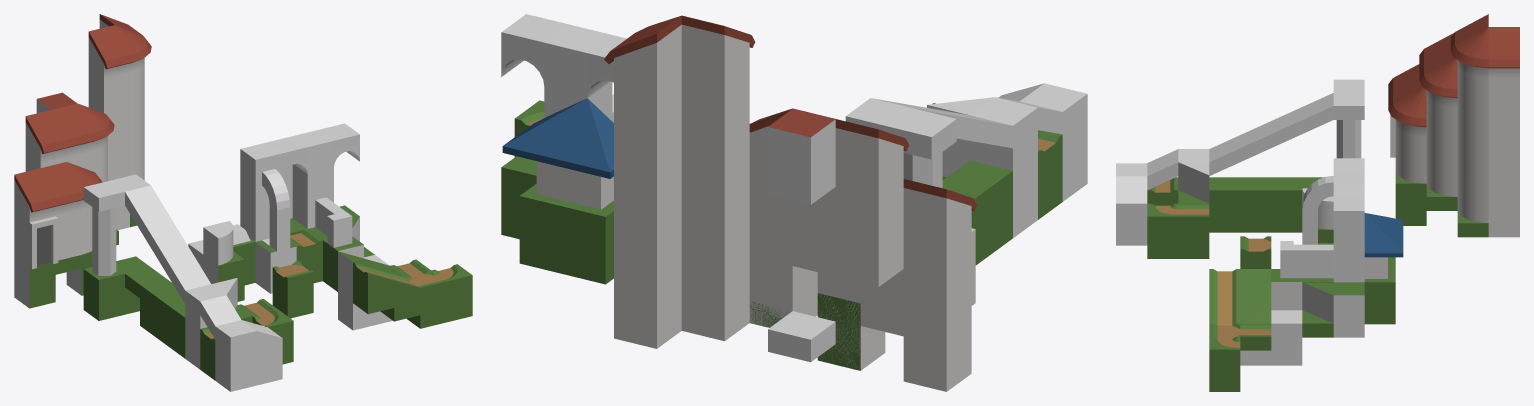
The model's file is cathedral.fbx.
3 views of the same model, side by side, from view 1: azimuth 30°, elevation 25°; view 2: azimuth 150°, elevation 25°; view 3: azimuth 270°, elevation 25° (orthographic). The views are drawn at different scales.
Parts seen in each view (by area): view 1: floor.007, floor.003, wall.006, arch2, wall.003, wall, floor.002, step, floor.005, curve, floor.014, road.002 (+28 smaller); view 2: floor.003, floor.010, floor.007, floor.014, floor.004, floor.015, floor.006, floor.001, platform, door.001, wall.003, floor.009 (+12 smaller); view 3: floor.010, floor.005, floor.006, floor.009, floor.001, door.001, down.002, down.003, down.001, up, fenceL, wall.003 (+31 smaller).
Boxes of the visible parts, x1,y1,x2,y2 form: floor.007: (14,168,58,308); floor.003: (88,25,133,229); wall.006: (83,181,124,320); arch2: (255,169,296,293); wall.003: (292,130,333,228); wall: (240,142,281,241); floor.002: (41,162,83,274); step: (215,320,256,391); floor.005: (115,25,151,227); curve: (203,221,244,301); floor.014: (25,110,69,171); road.002: (272,261,313,318); floor.003: (681,15,755,341); floor.010: (604,15,681,348); floor.007: (903,179,977,391); floor.014: (835,119,909,286); floor.004: (556,98,613,284); floor.015: (768,109,835,362); floor.006: (749,108,817,327); floor.001: (502,98,587,273); platform: (970,97,1037,237); door.001: (501,14,568,239); wall.003: (544,24,612,120); floor.009: (817,272,885,370); floor.010: (1488,27,1519,237); floor.005: (1450,27,1488,237); floor.006: (1419,58,1457,210); floor.009: (1388,88,1426,225); floor.001: (1364,213,1403,324); door.001: (1333,197,1364,337); down.002: (1240,121,1271,232); down.003: (1271,107,1302,232); down.001: (1209,135,1240,232); up: (1116,176,1147,245); fenceL: (1271,241,1302,310); wall.003: (1333,184,1364,282).
Size of the model in its own units: 2700 by 1800 by 2600.
